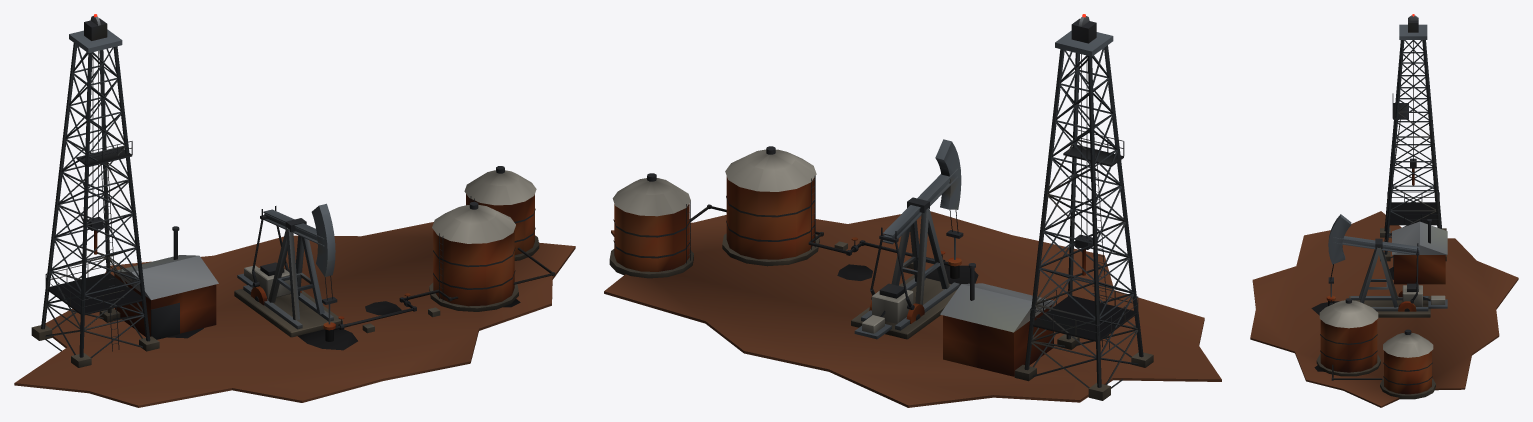
File: oil_derrick.glb
3 views of the same model, side by side, from view 1: azimuth 30°, elevation 25°; view 2: azimuth 150°, elevation 25°; view 3: azimuth 270°, elevation 25° (orthographic). The views are drawn at different scales.
Visible parts, largest first — view 1: dirt_red, steel_beam, rust, metal_dark, paint, concrete_dark, metal_bare, rubber, paint2; view 2: dirt_red, steel_beam, rust, metal_dark, paint, concrete_dark, metal_bare, rubber, paint2; view 3: dirt_red, steel_beam, rust, metal_dark, paint, concrete_dark, metal_bare, paint2.
Part boxes in pixels (x1,y1,x2,y2): dirt_red: (14, 222, 575, 407); steel_beam: (41, 29, 335, 357); rust: (94, 194, 534, 336); metal_dark: (45, 18, 555, 351); paint: (244, 170, 536, 281); concrete_dark: (31, 235, 539, 367); metal_bare: (90, 15, 330, 324); rubber: (167, 299, 520, 350); paint2: (253, 268, 290, 299); dirt_red: (604, 211, 1221, 407); steel_beam: (854, 30, 1143, 388); rust: (614, 176, 1085, 376); metal_dark: (613, 18, 1138, 349); paint: (612, 149, 884, 333); concrete_dark: (609, 233, 1153, 400); metal_bare: (940, 16, 1089, 332); rubber: (837, 264, 978, 285); paint2: (872, 290, 913, 323); dirt_red: (1250, 211, 1518, 407); steel_beam: (1328, 24, 1447, 311); rust: (1320, 168, 1445, 394); metal_dark: (1320, 17, 1439, 385); paint: (1319, 295, 1445, 357); concrete_dark: (1316, 228, 1446, 399); metal_bare: (1330, 15, 1447, 297); paint2: (1402, 285, 1422, 306).
Size of what is drawn, in the model's own units: 42.97 by 24.25 by 24.97.
